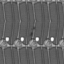dust: (30, 31, 33, 36), (32, 26, 36, 29)
